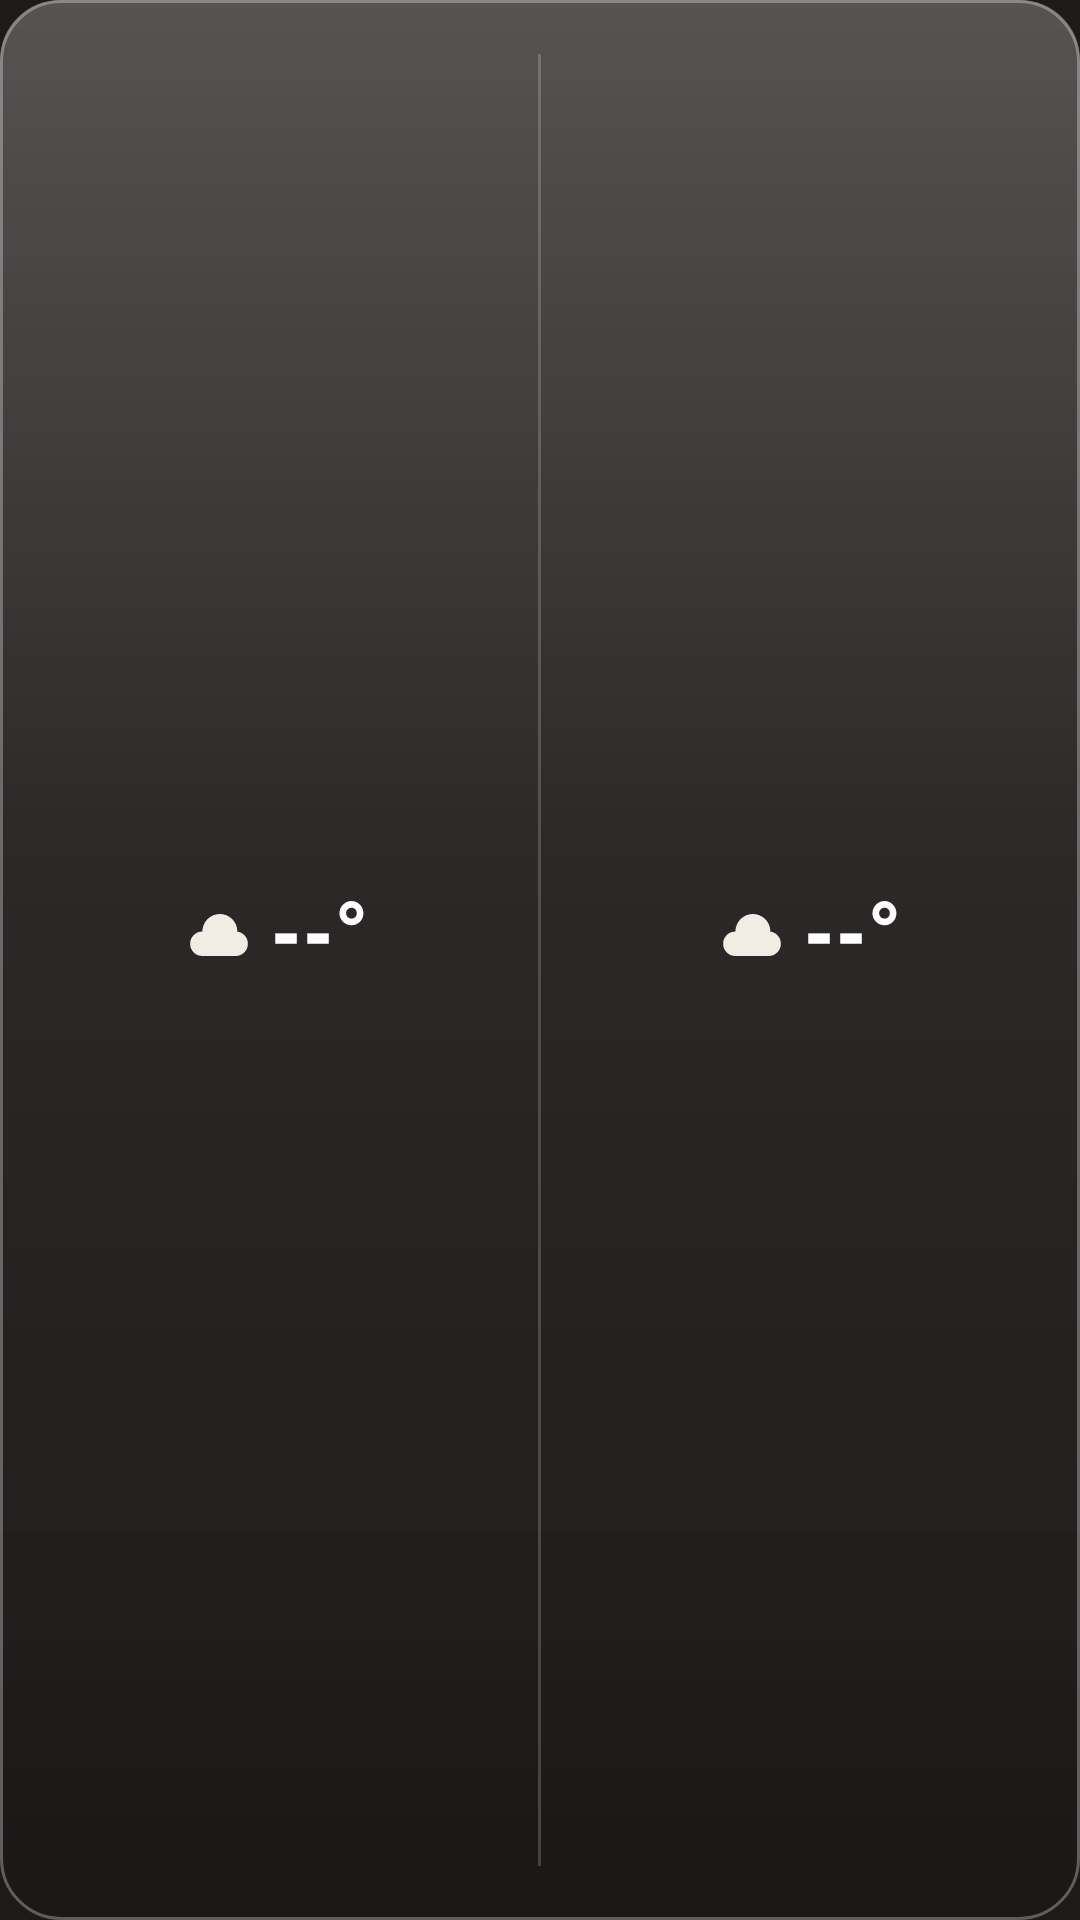

Icons on this 1080w x 1920h Android screen, each with the point to tap as [x,y]:
wi cloudy: [219,935], [752,935]
